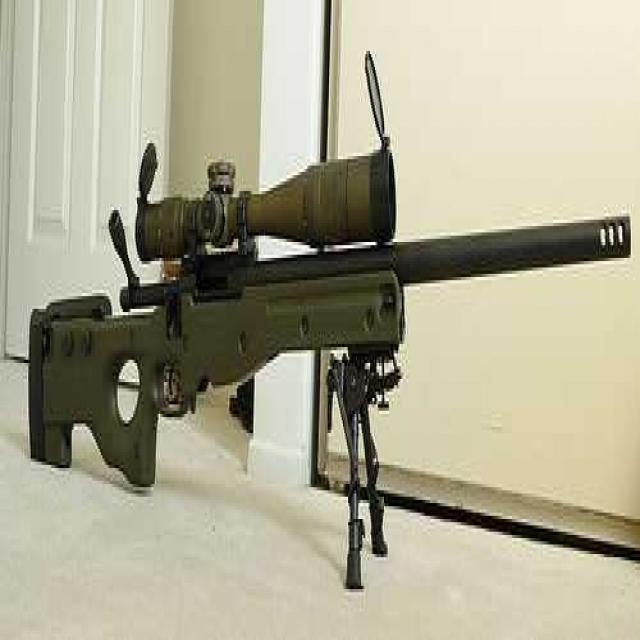weapon: (21, 57, 636, 567)
